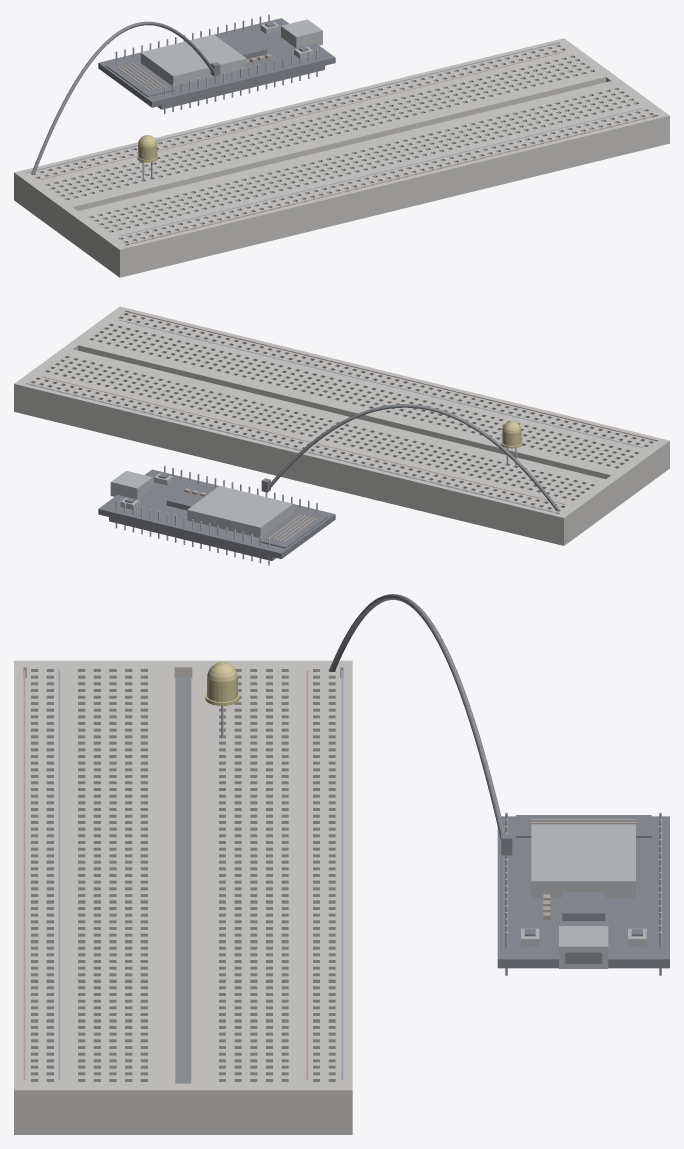
The model's file is step-2.glb.
The picture shows the model from 3 angles, top to bottom: view 1: azimuth 30°, elevation 25°; view 2: azimuth 150°, elevation 25°; view 3: azimuth 270°, elevation 25°; orthographic projection. The views are drawn at different scales.
Parts seen in each view (by area): view 1: bb1__mesh, uno__mesh, w_gnd_rail__mesh, led_yellow__mesh; view 2: bb1__mesh, uno__mesh, w_gnd_rail__mesh, led_yellow__mesh; view 3: bb1__mesh, uno__mesh, w_gnd_rail__mesh, led_yellow__mesh.
Part boxes in pixels (<box>): bb1__mesh: <box>14,38,669,277</box>; uno__mesh: <box>98,14,335,114</box>; w_gnd_rail__mesh: <box>31,21,220,174</box>; led_yellow__mesh: <box>137,135,158,180</box>; bb1__mesh: <box>14,306,669,545</box>; uno__mesh: <box>98,465,335,565</box>; w_gnd_rail__mesh: <box>261,404,559,511</box>; led_yellow__mesh: <box>501,421,522,466</box>; bb1__mesh: <box>14,660,352,1134</box>; uno__mesh: <box>497,812,669,975</box>; w_gnd_rail__mesh: <box>329,594,512,855</box>; led_yellow__mesh: <box>205,662,239,737</box>.
Size of the model in its own units: 0.165 by 0.0358 by 0.1065.
